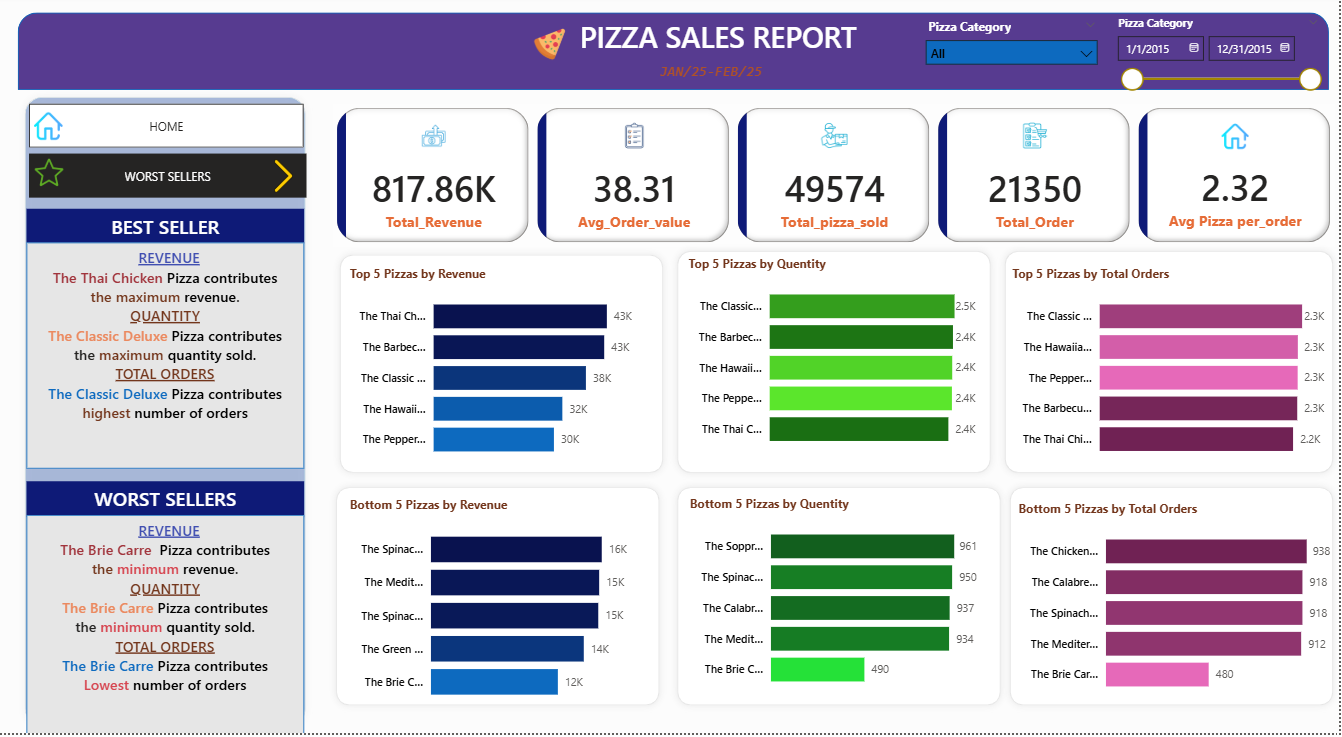

The page's visual inventory and layout, read from the dashboard file:
{"tool":"powerbi","page":{"name":"WORST SELLERS","canvas":[1500,820],"ordinal":1},"visuals":[{"type":"cardVisual","fields":{"Data":["public pizza_sales.Total_Revenue","public pizza_sales.Avg_Order_value","public pizza_sales.Total_pizza_sold","public pizza_sales.Total_Order","public pizza_sales.Avg Pizza per_order"]},"box":[373.1,116,1120.7,160.7],"z":0},{"type":"shape","box":[21,14,1465.9,86.6],"z":1000},{"type":"textbox","box":[644.2,14,452.8,69.9],"z":2000},{"type":"textbox","box":[733.6,65.7,155.1,34.9],"z":3000},{"type":"image","box":[557.6,26.6,116,46.1],"z":4000},{"type":"shape","box":[373.1,276.7,377.3,259.9],"z":5000},{"type":"shape","box":[20.9,101.3,329.7,718.8],"z":6000},{"type":"textbox","box":[30.6,233.2,310.4,38.6],"z":7000},{"type":"textbox","box":[30.6,271.8,310.4,252.5],"z":8000},{"type":"textbox","box":[30.6,538.7,310.4,40.2],"z":9000},{"type":"textbox","box":[30.6,575.7,310.4,244.4],"z":10000},{"type":"slicer","fields":{"Values":["public pizza_sales.pizza_category"]},"box":[1025.7,15.4,212.4,57.3],"z":11000},{"type":"slicer","fields":{"Values":["public pizza_sales.order_date"]},"box":[1238.1,12.6,248.7,89.4],"z":12000},{"type":"shape","box":[1116.5,272.5,382.9,264.1],"z":13000},{"type":"shape","box":[750.4,272.5,366.1,264.1],"z":14000},{"type":"shape","box":[1122.1,536.6,377.3,259.9],"z":15000},{"type":"shape","box":[750.4,536.6,377.3,259.9],"z":16000},{"type":"shape","box":[368.9,536.6,377.3,259.9],"z":17000},{"type":"barChart","title":"Top 5 Pizzas by Revenue","fields":{"Category":["public pizza_sales.pizza_name"],"Y":["public pizza_sales.Total_Revenue"]},"box":[387.5,295.9,345.7,228.3],"z":18000},{"type":"barChart","title":"Bottom 5 Pizzas by Revenue","fields":{"Category":["public pizza_sales.pizza_name"],"Y":["public pizza_sales.Total_Revenue"]},"box":[387.5,554.8,331.3,242.8],"z":19000},{"type":"barChart","title":"Top 5 Pizzas by Quentity","fields":{"Category":["public pizza_sales.pizza_name"],"Y":["public pizza_sales.Total_pizza_sold"]},"box":[765.8,285.1,331.2,227.8],"z":20000},{"type":"barChart","title":"Bottom 5 Pizzas by Quentity","fields":{"Category":["public pizza_sales.pizza_name"],"Y":["public pizza_sales.Total_pizza_sold"]},"box":[767,553.2,331.3,228.3],"z":21000},{"type":"barChart","title":"Top 5 Pizzas by  Total Orders","fields":{"Category":["public pizza_sales.pizza_name"],"Y":["public pizza_sales.Total_Order"]},"box":[1127.7,296.3,359.1,227.8],"z":22000},{"type":"barChart","title":"Bottom 5 Pizzas by  Total Orders","fields":{"Category":["public pizza_sales.pizza_name"],"Y":["public pizza_sales.Total_Order"]},"box":[1135.3,559.6,358.6,228.3],"z":23000},{"type":"pageNavigator","box":[33.8,172.1,310.4,49.9],"z":23001},{"type":"pageNavigator","box":[33.8,115.8,307.1,49.9],"z":23002},{"type":"image","box":[294.3,172.1,46.6,49.9],"z":23003},{"type":"image","box":[33.8,120.6,43.4,41.8],"z":23004},{"type":"image","box":[33.8,172.1,45,41.8],"z":23005}]}

Visuals, with their boxes in screenshot pixels (x1, y1, x2, y2), scaled from the page's 1500x820 canvas onto the 1342x737 screenshot:
cardVisual - public pizza_sales.Total_Revenue x public pizza_sales.Avg_Order_value: [x1=334, y1=104, x2=1336, y2=249]
shape: [x1=19, y1=13, x2=1330, y2=90]
textbox: [x1=576, y1=13, x2=981, y2=75]
textbox: [x1=656, y1=59, x2=795, y2=90]
image: [x1=499, y1=24, x2=603, y2=65]
shape: [x1=334, y1=249, x2=671, y2=482]
shape: [x1=19, y1=91, x2=314, y2=736]
textbox: [x1=27, y1=210, x2=305, y2=244]
textbox: [x1=27, y1=244, x2=305, y2=471]
textbox: [x1=27, y1=484, x2=305, y2=520]
textbox: [x1=27, y1=517, x2=305, y2=736]
slicer - public pizza_sales.pizza_category: [x1=918, y1=14, x2=1108, y2=65]
slicer - public pizza_sales.order_date: [x1=1108, y1=11, x2=1330, y2=92]
shape: [x1=999, y1=245, x2=1341, y2=482]
shape: [x1=671, y1=245, x2=999, y2=482]
shape: [x1=1004, y1=482, x2=1341, y2=716]
shape: [x1=671, y1=482, x2=1009, y2=716]
shape: [x1=330, y1=482, x2=668, y2=716]
"Top 5 Pizzas by Revenue" barChart: [x1=347, y1=266, x2=656, y2=471]
"Bottom 5 Pizzas by Revenue" barChart: [x1=347, y1=499, x2=643, y2=717]
"Top 5 Pizzas by Quentity" barChart: [x1=685, y1=256, x2=981, y2=461]
"Bottom 5 Pizzas by Quentity" barChart: [x1=686, y1=497, x2=983, y2=702]
"Top 5 Pizzas by  Total Orders" barChart: [x1=1009, y1=266, x2=1330, y2=471]
"Bottom 5 Pizzas by  Total Orders" barChart: [x1=1016, y1=503, x2=1337, y2=708]
pageNavigator: [x1=30, y1=155, x2=308, y2=200]
pageNavigator: [x1=30, y1=104, x2=305, y2=149]
image: [x1=263, y1=155, x2=305, y2=200]
image: [x1=30, y1=108, x2=69, y2=146]
image: [x1=30, y1=155, x2=70, y2=192]
